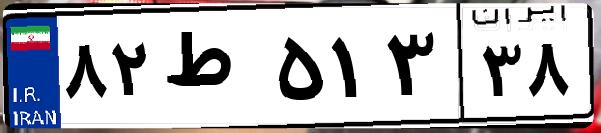1: (330, 28, 385, 110)
2: (110, 28, 158, 98)
3: (385, 28, 445, 110), (475, 38, 525, 113)
5: (270, 28, 330, 110)
8: (57, 26, 110, 100), (525, 38, 570, 115)
ط: (158, 20, 270, 120)
